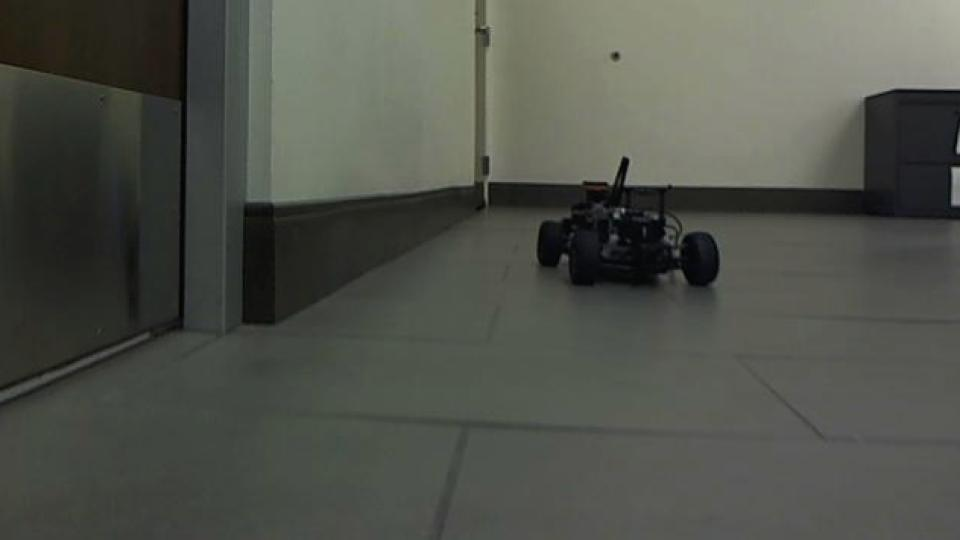car: (532, 155, 722, 291)
